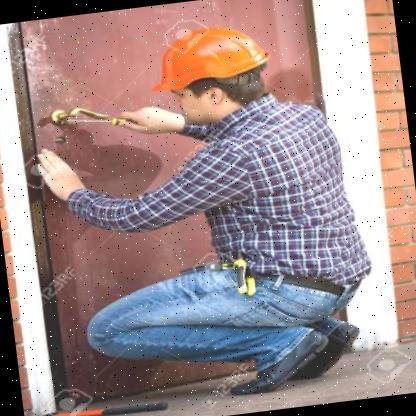bota: (222, 317, 332, 397)
capacete: (150, 20, 280, 126)
